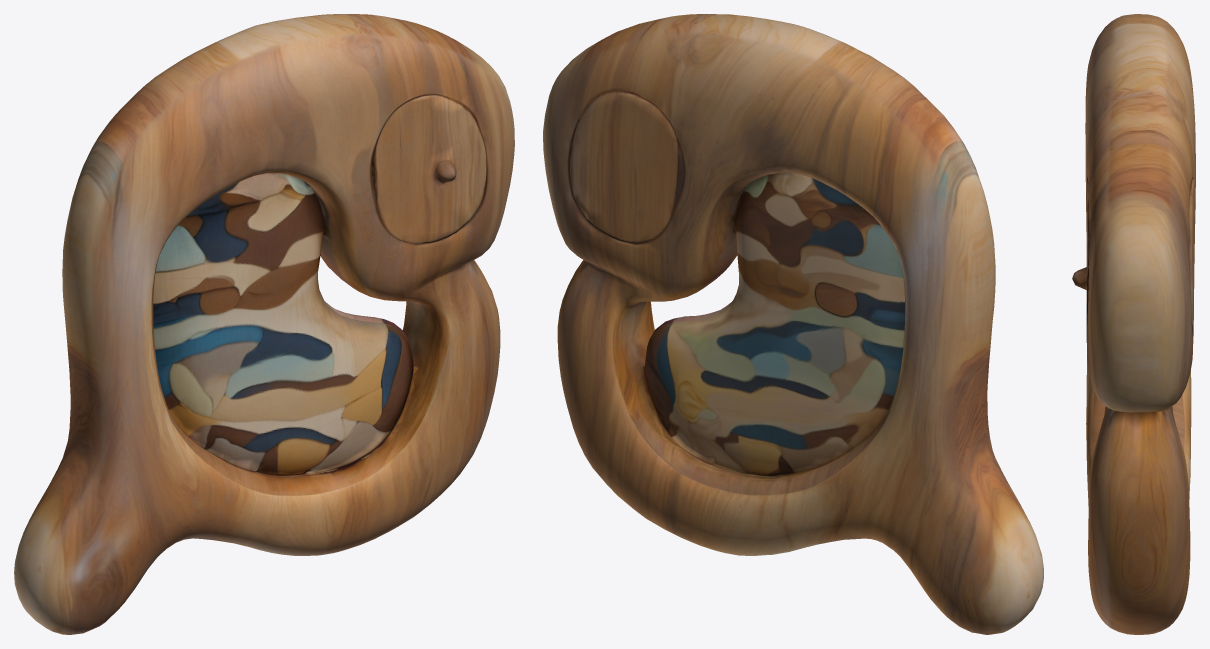
File: Whimsical_Nest_0606071622_texture.glb
The picture shows the model from 3 angles, left to right: view 1: azimuth 30°, elevation 25°; view 2: azimuth 150°, elevation 25°; view 3: azimuth 270°, elevation 25°; orthographic projection. The views are drawn at different scales.
Bounding box in the file's own units: 1.84 × 2 × 0.3971.
Materials: 1 (1 with a texture image).
